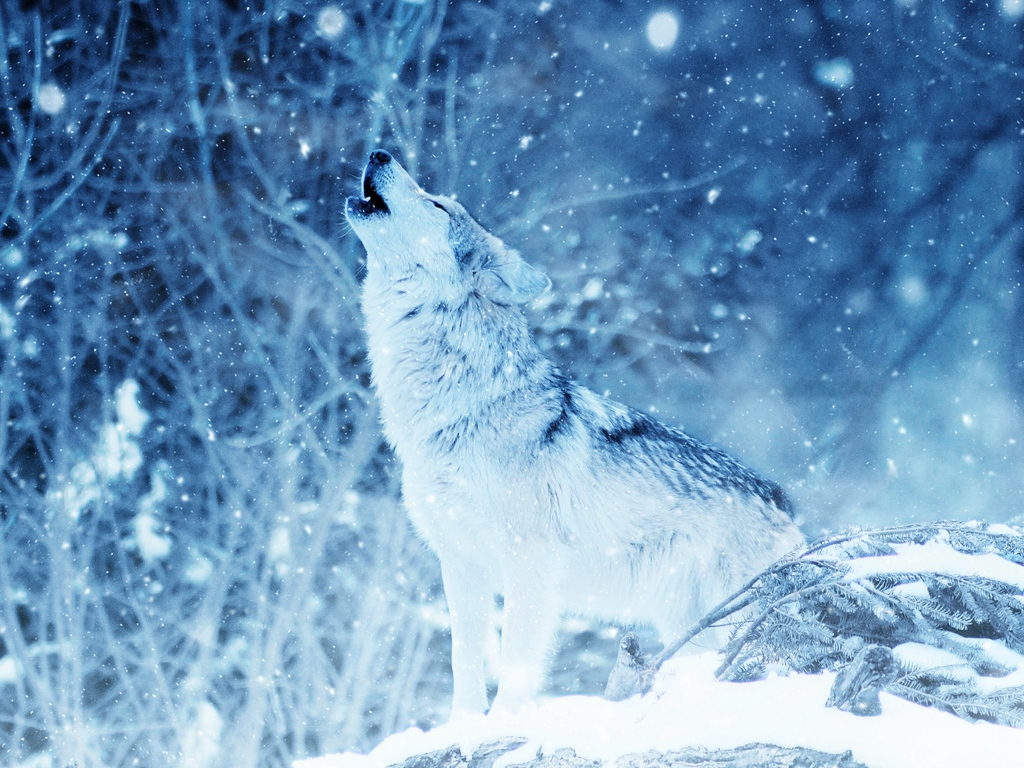wolf: (326, 134, 841, 741)
